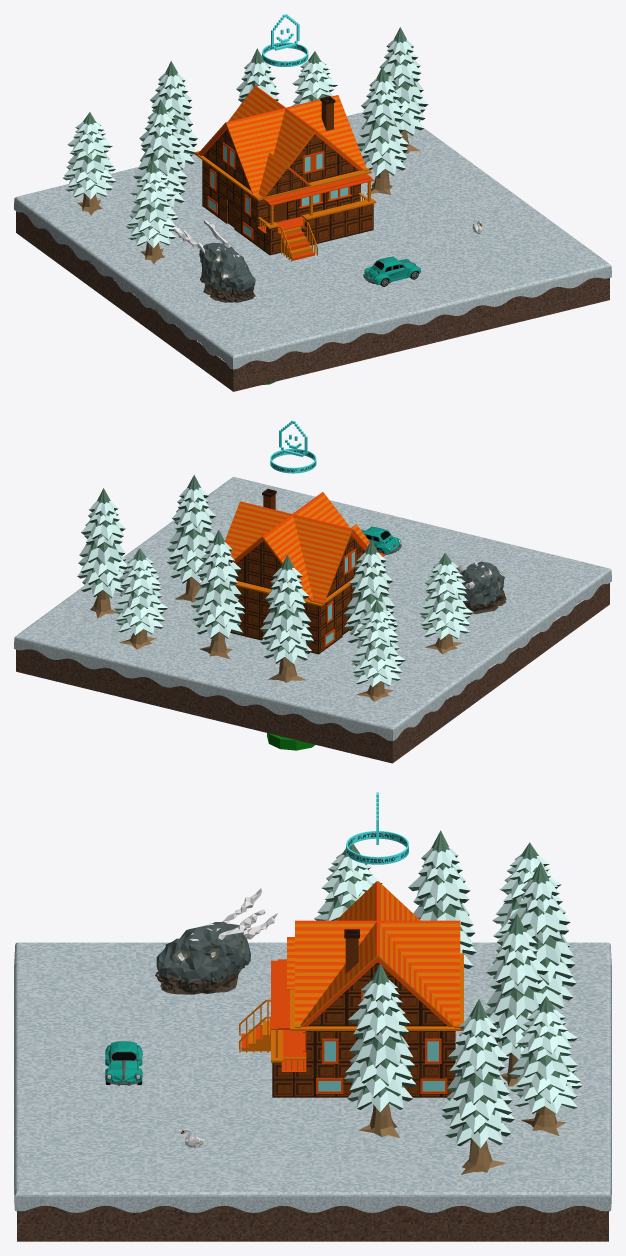
3 views of the same model, one above another, from view 1: azimuth 30°, elevation 25°; view 2: azimuth 150°, elevation 25°; view 3: azimuth 270°, elevation 25° (orthographic). The views are drawn at different scales.
Visible parts, largest first — view 1: Cube.003, Cube, OBJRANDOM_METEORITE, VEHICLES_VOLKSWAGEN, TYPE_PREMIUM; view 2: Cube.003, Cube, OBJRANDOM_METEORITE, TYPE_PREMIUM, VEHICLES_VOLKSWAGEN, UNDERGROUND_PIPES; view 3: Cube.003, Cube, OBJRANDOM_METEORITE, VEHICLES_VOLKSWAGEN, TYPE_PREMIUM.
Boxes of the visible parts, x1,y1,x2,y2 form: Cube.003: [14, 27, 611, 391]; Cube: [194, 85, 376, 261]; OBJRANDOM_METEORITE: [174, 220, 255, 302]; VEHICLES_VOLKSWAGEN: [363, 256, 421, 286]; TYPE_PREMIUM: [262, 14, 308, 66]; Cube.003: [14, 475, 611, 763]; Cube: [225, 489, 388, 654]; OBJRANDOM_METEORITE: [456, 561, 506, 613]; TYPE_PREMIUM: [270, 420, 316, 473]; VEHICLES_VOLKSWAGEN: [361, 526, 401, 554]; UNDERGROUND_PIPES: [267, 733, 315, 750]; Cube.003: [14, 830, 611, 1241]; Cube: [239, 881, 463, 1097]; OBJRANDOM_METEORITE: [155, 888, 277, 994]; VEHICLES_VOLKSWAGEN: [105, 1041, 142, 1085]; TYPE_PREMIUM: [346, 792, 408, 864].
Bounding box in the file's own units: 4040 × 3051 × 4040.
Materials: 31 (5 with a texture image).
